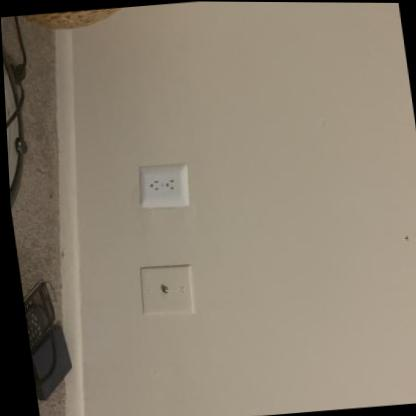OUTLET: (135, 162, 192, 209)
